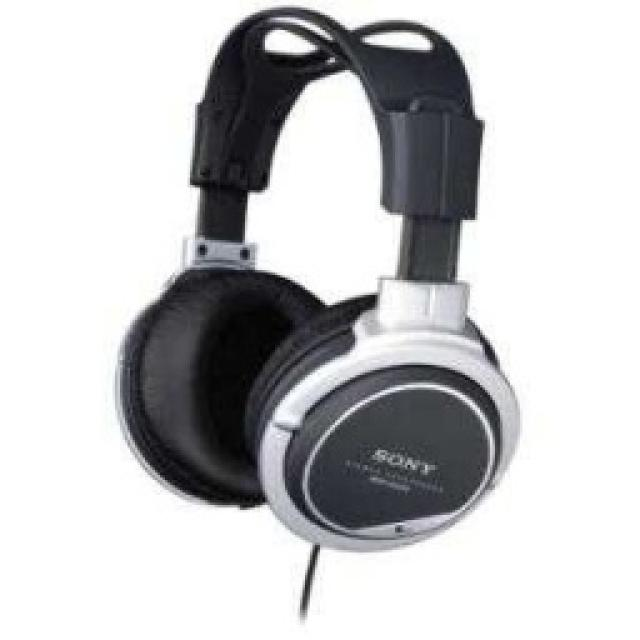headphones: (112, 2, 522, 552)
